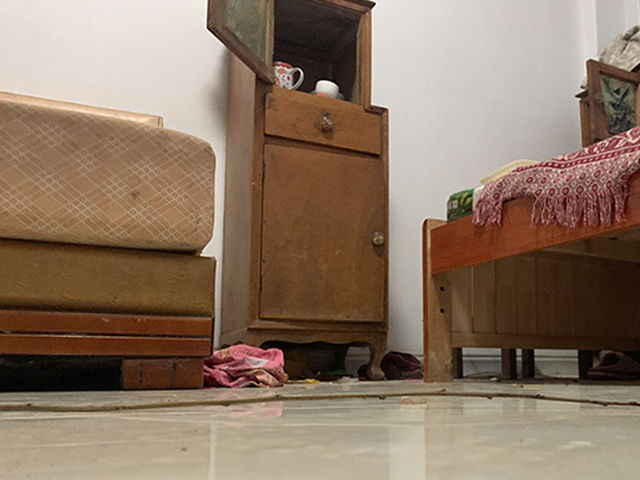bed: (421, 125, 640, 383)
cabinet: (221, 84, 390, 380)
slippers: (586, 349, 640, 382)
sofa: (1, 90, 219, 390)
